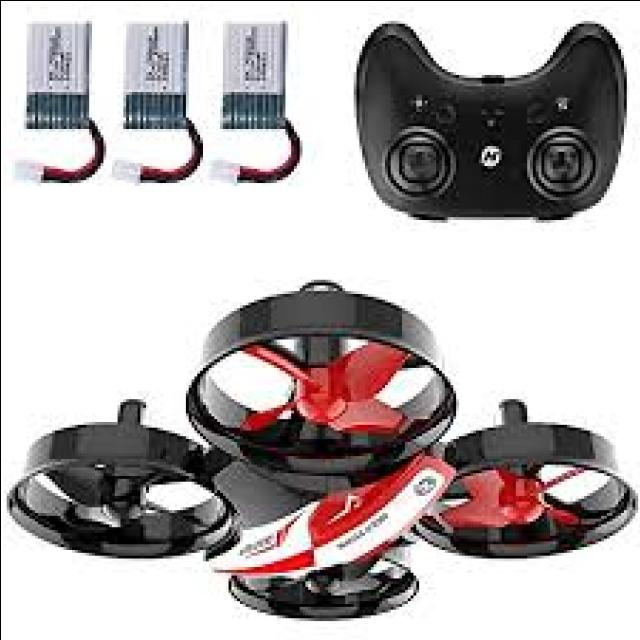drone: (0, 276, 640, 638)
